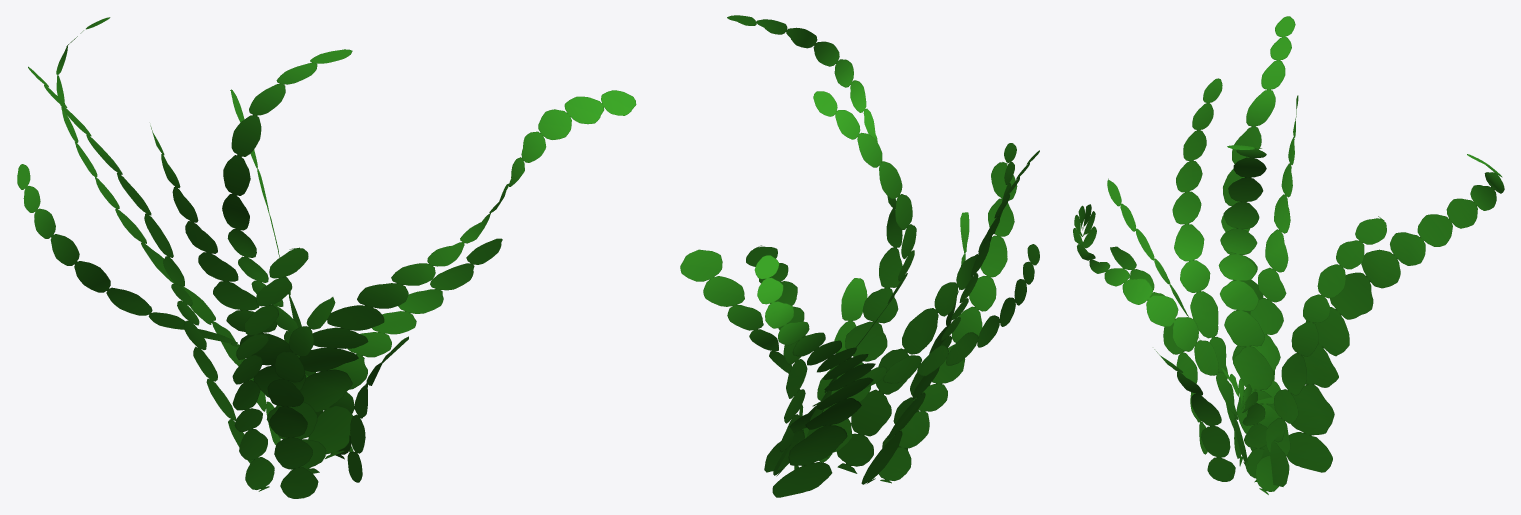
File: 18-Halimeda.fbx
3 renders of one model, left to right at view 1: azimuth 30°, elevation 25°; view 2: azimuth 150°, elevation 25°; view 3: azimuth 270°, elevation 25°, orthographic. The views are drawn at different scales.
Parts seen in each view (by area): view 1: 18-Halimeda_LOD00; view 2: 18-Halimeda_LOD00; view 3: 18-Halimeda_LOD00.
Boxes of the visible parts, x1,y1,x2,y2 form: 18-Halimeda_LOD00: (17, 17, 636, 498); 18-Halimeda_LOD00: (680, 15, 1039, 497); 18-Halimeda_LOD00: (1073, 16, 1504, 494).
Size of the model in its own units: 46.98 by 42.39 by 45.68.
